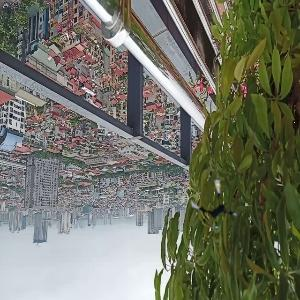drone: (191, 180, 240, 229)
